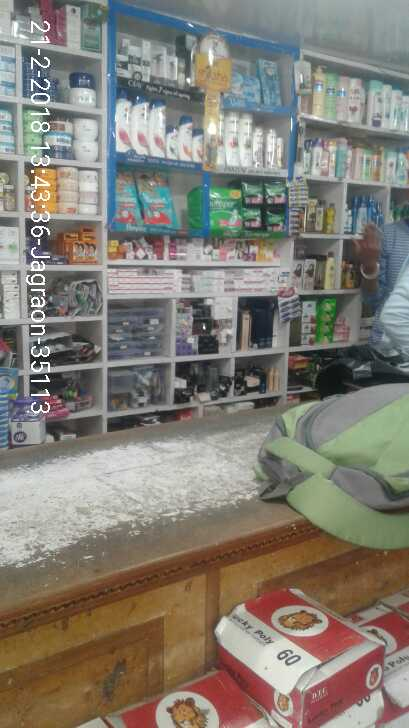venus: (260, 61, 279, 103), (243, 77, 260, 103), (228, 77, 243, 99)
